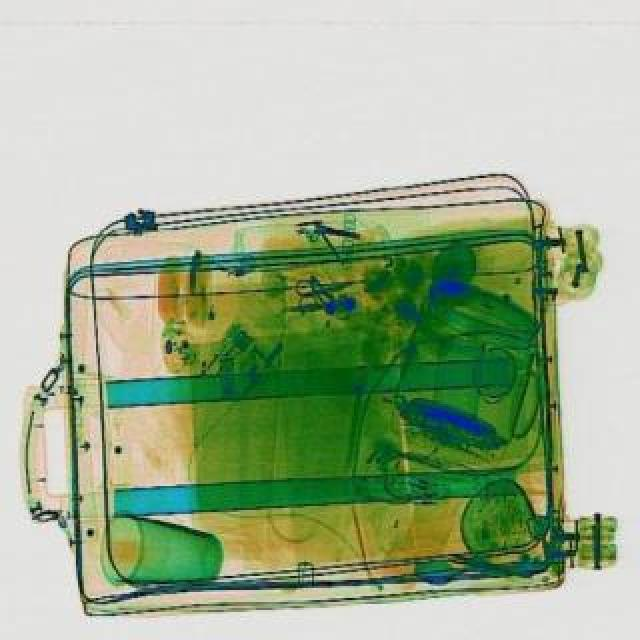pliers: (292, 266, 364, 310)
